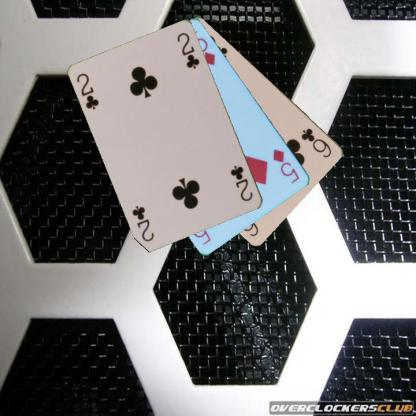2c: (74, 70, 100, 111), (228, 163, 254, 203)
5d: (270, 146, 300, 185)
6c: (299, 126, 333, 160)
